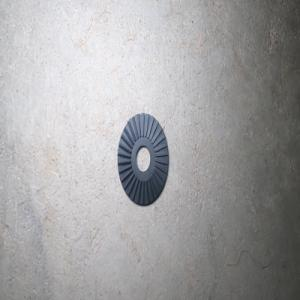Washer: (117, 113, 169, 206)
